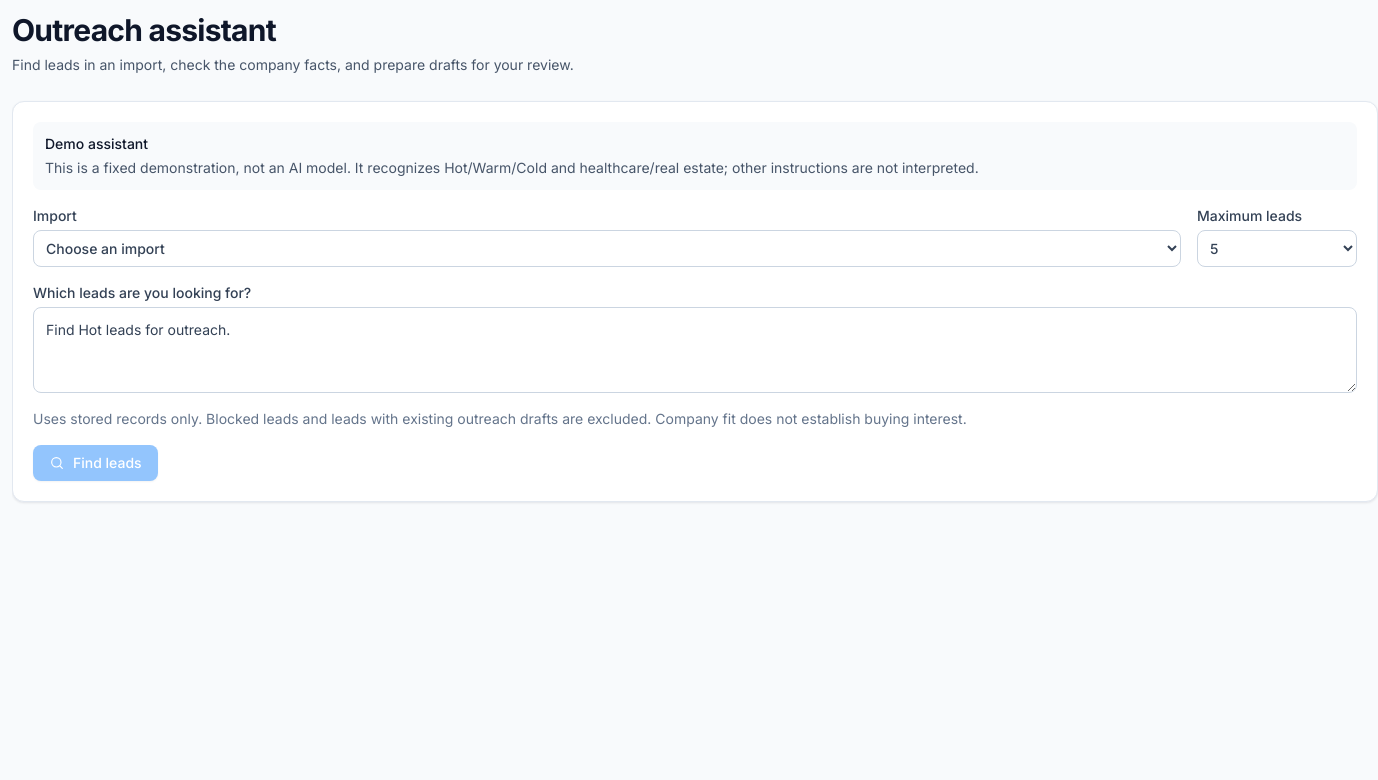
Scenario: Outreach assistant › does not offer drafting when the run is no_matches
The image size is (1378, 780).
Check: the text "Demo assistant" is shown, box [45, 135, 148, 152]
Select "Clinic import · 5 leads" in the dropdown labelled "Import" at (607, 248), box [33, 230, 1181, 267]
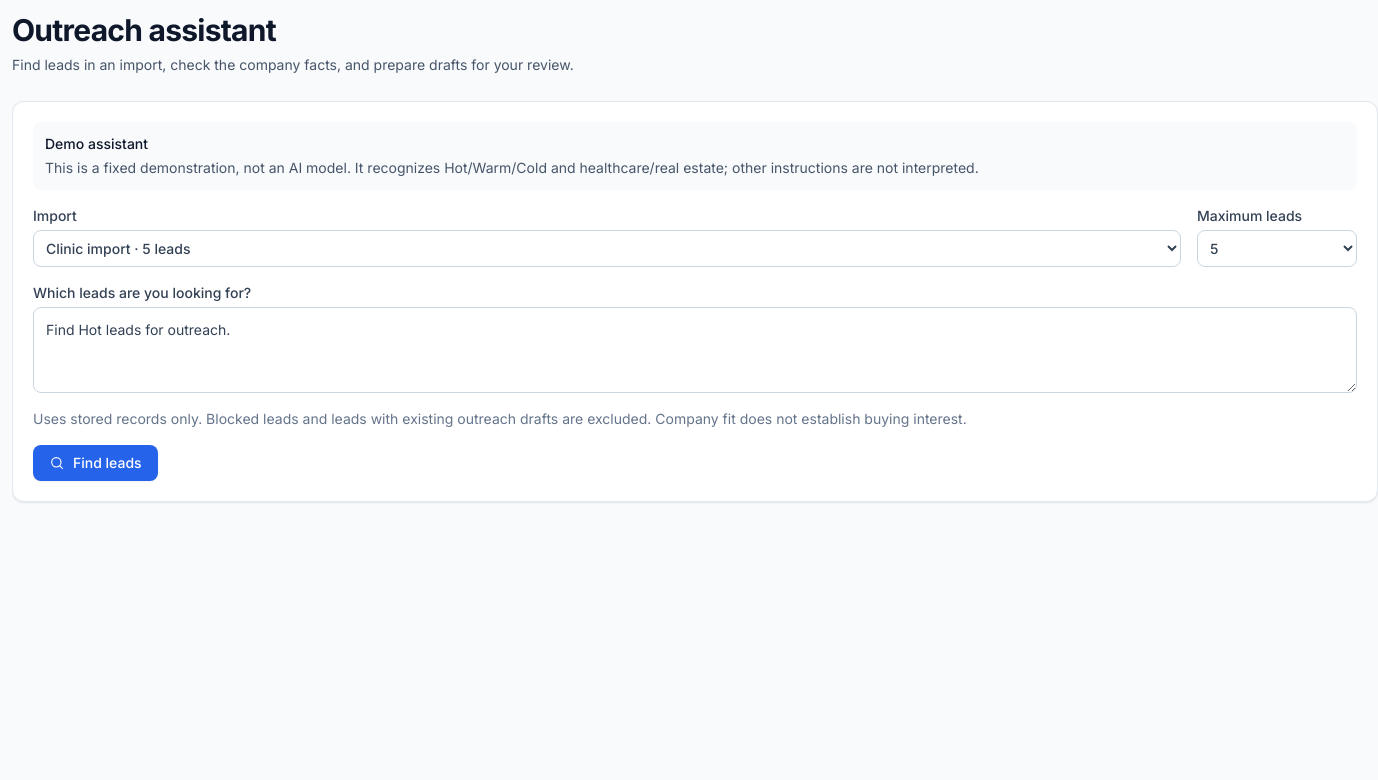
Click the button "Find leads" at (95, 463), box [33, 445, 158, 481]
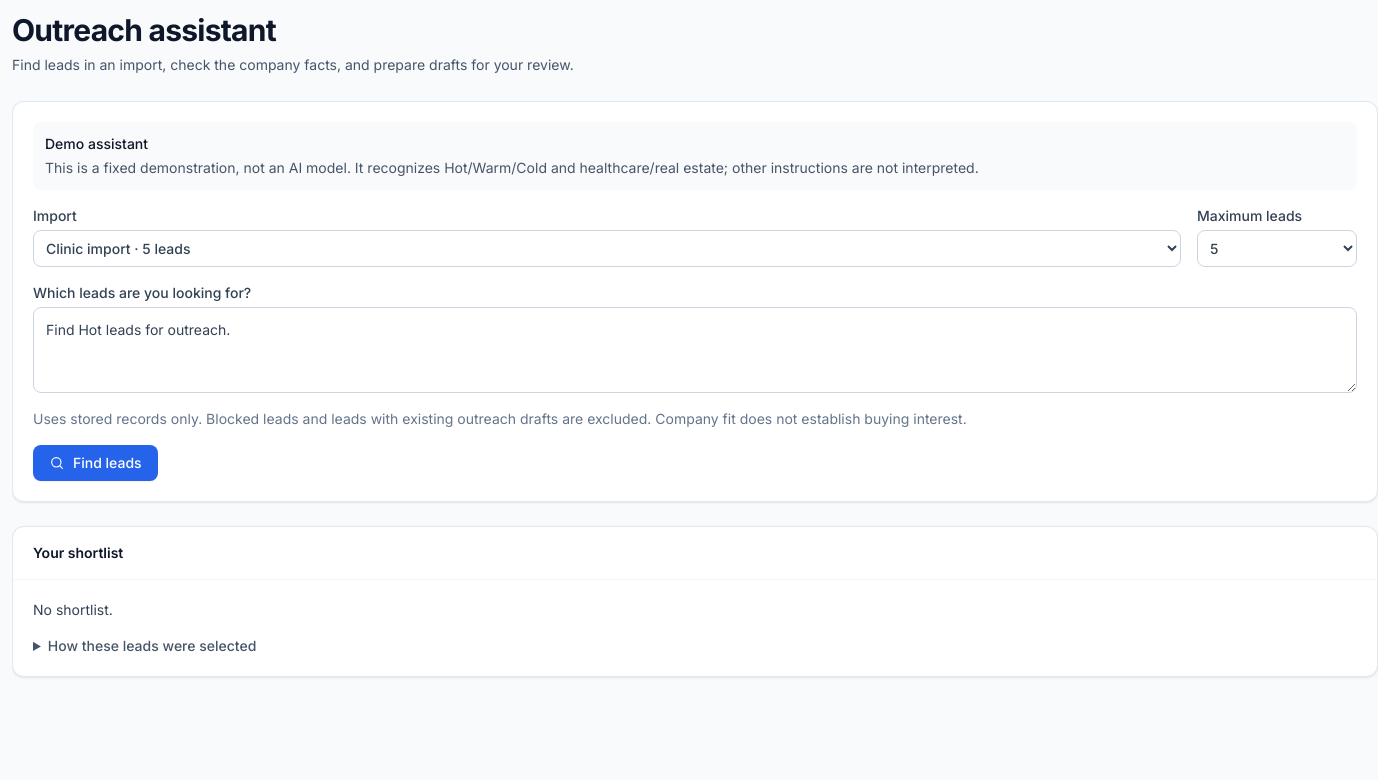
Check: the message reads "No shortlist.", box [33, 601, 113, 618]
